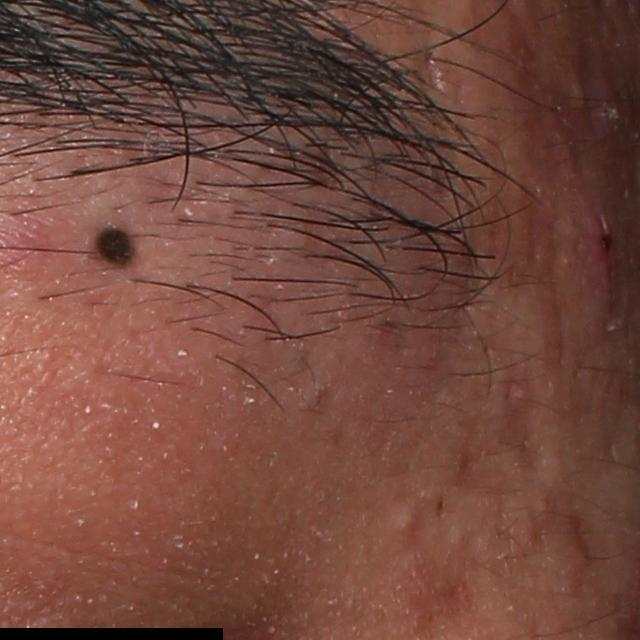atrophic_scar: (497, 373, 549, 486), (426, 564, 478, 637)
nevus: (93, 221, 137, 270)
